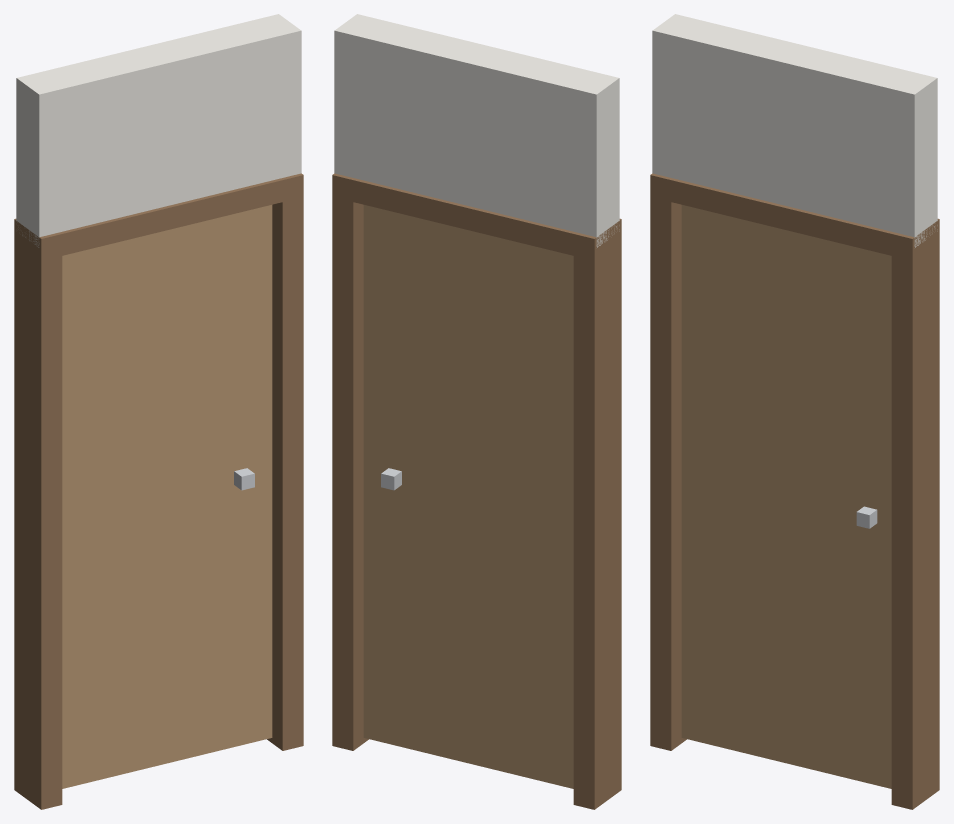
The model's file is door.glb.
3 renders of one model, left to right at view 1: azimuth 30°, elevation 25°; view 2: azimuth 150°, elevation 25°; view 3: azimuth 330°, elevation 25°, orthographic.
Visible parts, largest first — view 1: leaf, frame; view 2: leaf, frame; view 3: leaf, frame.
Part boxes in pixels (<box>): leaf: <box>62,205,272,788</box>; frame: <box>14,14,303,809</box>; leaf: <box>363,205,573,788</box>; frame: <box>332,14,621,809</box>; leaf: <box>681,205,891,788</box>; frame: <box>650,14,939,809</box>.
Bounding box in the file's own units: 1 × 2.6 × 0.18.
